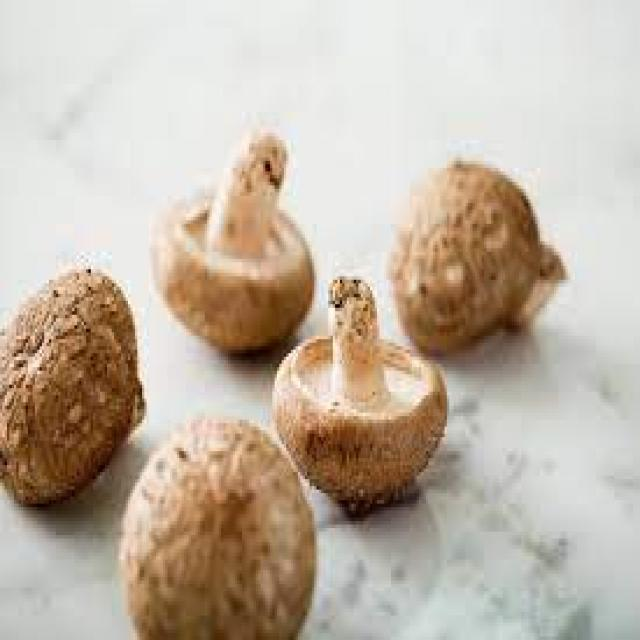Mushroom: (272, 280, 449, 514), (0, 269, 144, 507)
